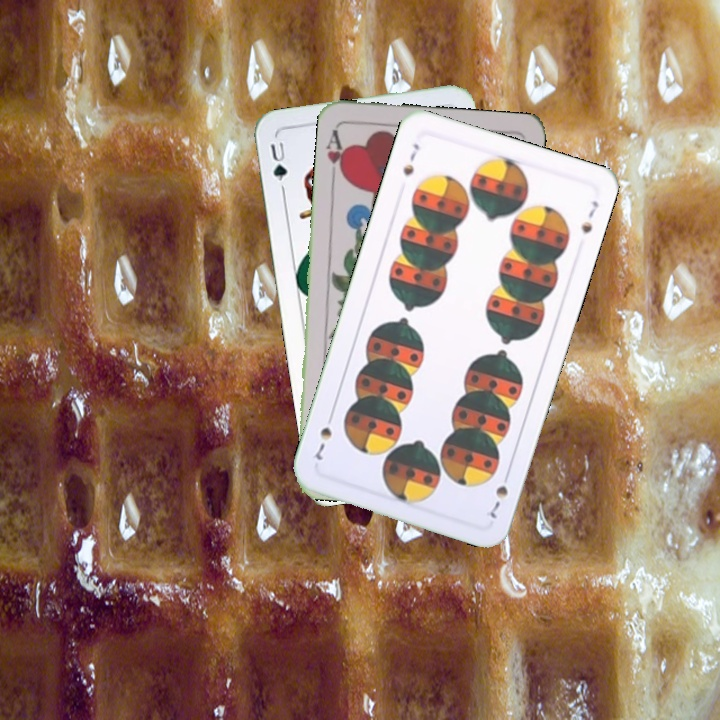GU: (266, 135, 290, 193)
HA: (322, 124, 350, 183)
S7: (486, 466, 513, 522), (398, 139, 422, 178)
